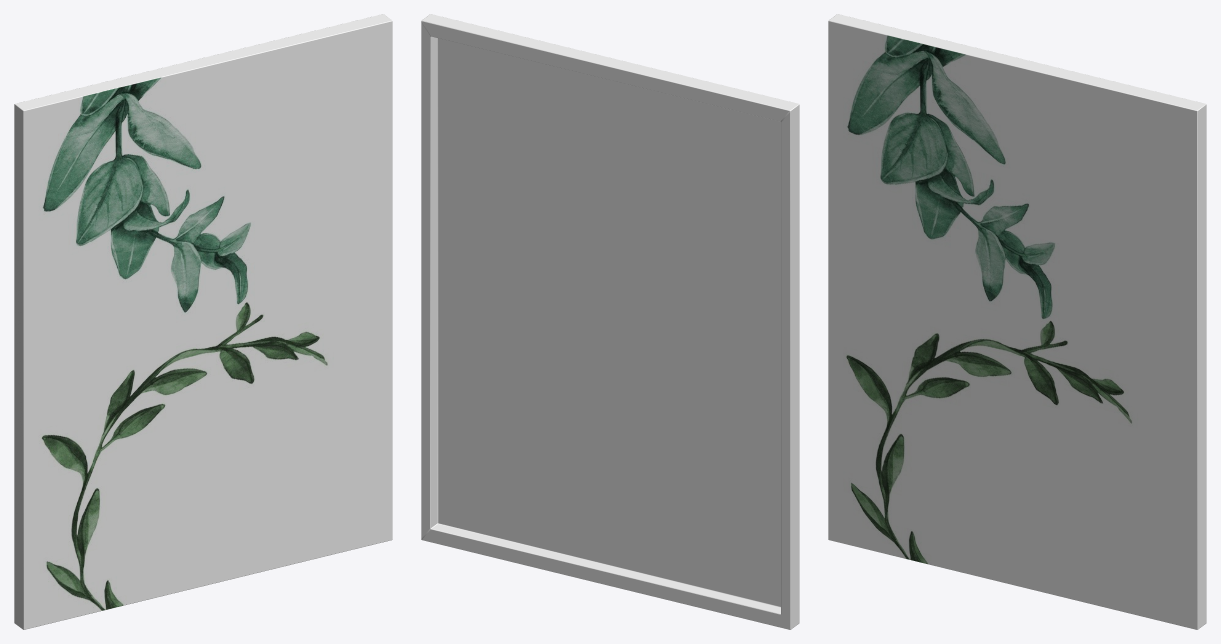
Rendered from Lobby Frame.fbx.
The picture shows the model from 3 angles, left to right: view 1: azimuth 30°, elevation 25°; view 2: azimuth 150°, elevation 25°; view 3: azimuth 330°, elevation 25°; orthographic projection.
Visible parts, largest first — view 1: Minimalist picture g; view 2: Minimalist picture g; view 3: Minimalist picture g.
Boxes of the visible parts, left/top/right/bottom form: Minimalist picture g: left=14, top=14, right=392, bottom=629; Minimalist picture g: left=421, top=14, right=799, bottom=629; Minimalist picture g: left=828, top=14, right=1206, bottom=629.
Bounding box in the file's own units: 3.48 × 4.68 × 0.156.
